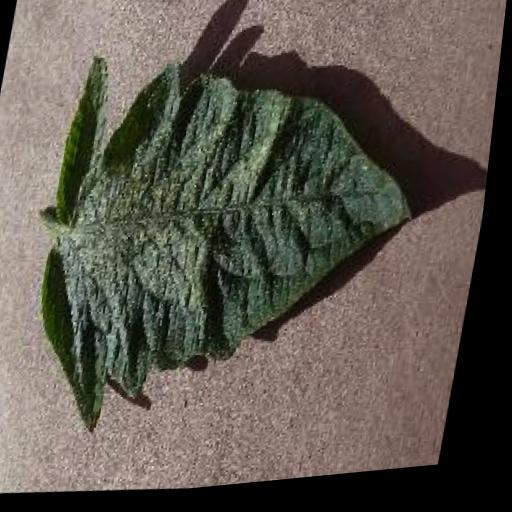Spider Mites: (20, 31, 446, 459)
